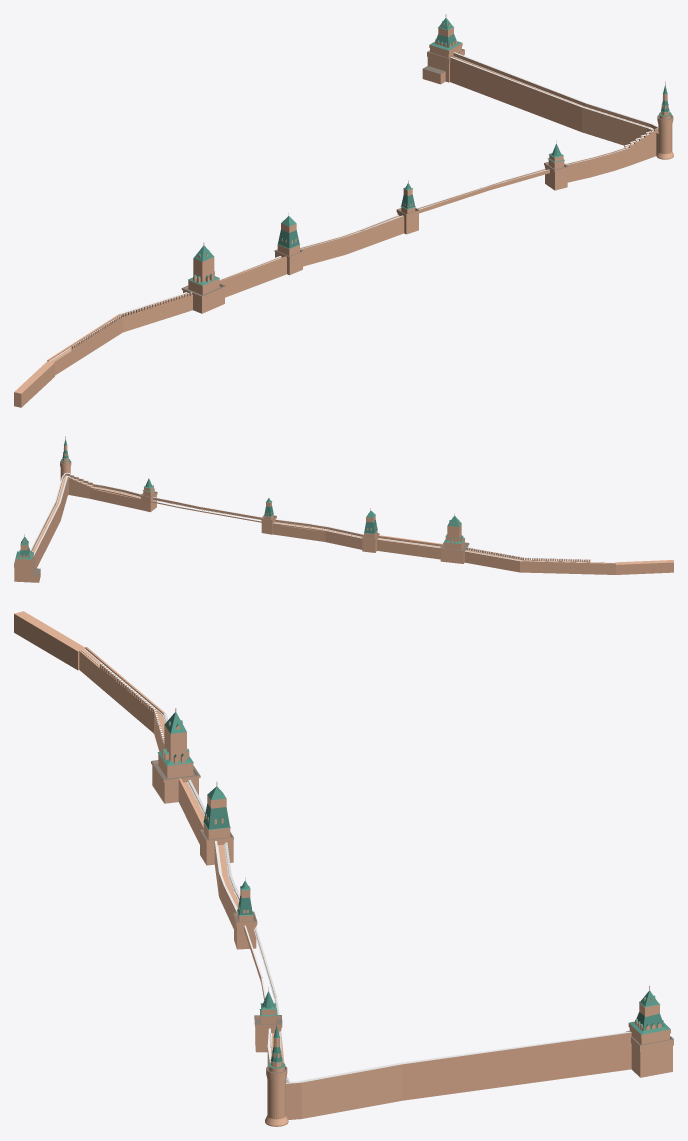
File: moscow4.fbx
The picture shows the model from 3 angles, top to bottom: view 1: azimuth 30°, elevation 25°; view 2: azimuth 150°, elevation 25°; view 3: azimuth 270°, elevation 25°; orthographic projection. The views are drawn at different scales.
Visible parts, largest first — view 1: map_2.osm_buildings.4170, map_2.osm_buildings.4217, map_2.osm_buildings.4124, map_2.osm_buildings.4177, map_2.osm_buildings.4174, map_2.osm_buildings.4119, map_2.osm_buildings.4180; view 2: map_2.osm_buildings.4217, map_2.osm_buildings.4124, map_2.osm_buildings.4170, map_2.osm_buildings.4119, map_2.osm_buildings.4174, map_2.osm_buildings.4141, map_2.osm_buildings.4152, map_2.osm_buildings.4068, map_2.osm_buildings.4120; view 3: map_2.osm_buildings.4170, map_2.osm_buildings.4217, map_2.osm_buildings.4177, map_2.osm_buildings.4068, map_2.osm_buildings.4141, map_2.osm_buildings.4124.
Boxes of the visible parts, left/top/right/bottom form: map_2.osm_buildings.4170: left=450, top=57, right=659, bottom=156; map_2.osm_buildings.4217: left=14, top=296, right=192, bottom=407; map_2.osm_buildings.4124: left=303, top=219, right=404, bottom=266; map_2.osm_buildings.4177: left=453, top=52, right=658, bottom=128; map_2.osm_buildings.4174: left=567, top=152, right=629, bottom=182; map_2.osm_buildings.4119: left=223, top=260, right=286, bottom=297; map_2.osm_buildings.4180: left=450, top=57, right=653, bottom=130; map_2.osm_buildings.4217: left=464, top=550, right=673, bottom=574; map_2.osm_buildings.4124: left=272, top=522, right=362, bottom=549; map_2.osm_buildings.4170: left=33, top=476, right=69, bottom=568; map_2.osm_buildings.4119: left=377, top=538, right=440, bottom=559; map_2.osm_buildings.4174: left=90, top=487, right=140, bottom=509; map_2.osm_buildings.4141: left=447, top=516, right=461, bottom=541; map_2.osm_buildings.4152: left=440, top=546, right=468, bottom=563; map_2.osm_buildings.4068: left=14, top=562, right=34, bottom=582; map_2.osm_buildings.4120: left=378, top=535, right=442, bottom=546; map_2.osm_buildings.4170: left=286, top=1038, right=631, bottom=1119; map_2.osm_buildings.4217: left=14, top=611, right=164, bottom=751; map_2.osm_buildings.4177: left=286, top=1031, right=631, bottom=1088; map_2.osm_buildings.4068: left=631, top=1044, right=672, bottom=1077; map_2.osm_buildings.4141: left=164, top=712, right=186, bottom=761; map_2.osm_buildings.4124: left=214, top=844, right=239, bottom=928.
Size of the model in its own units: 50381 by 4786 by 28287.
